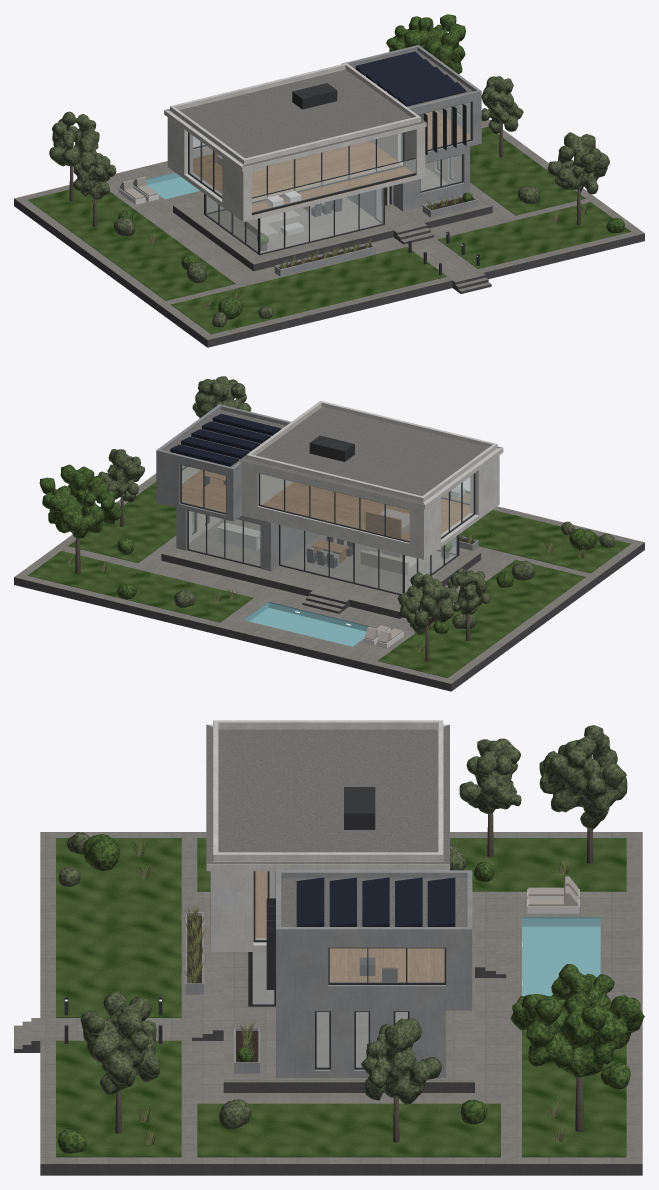
The model's file is smartestate_modern_villa.glb.
The picture shows the model from 3 angles, top to bottom: view 1: azimuth 30°, elevation 25°; view 2: azimuth 150°, elevation 25°; view 3: azimuth 270°, elevation 25°; orthographic projection. The views are drawn at different scales.
Parts seen in each view (by area): view 1: Site_Platform_Terraces_Pool, Villa_Structure_Concrete, Glass_Upper_Balcony_Wall, Glass_Pavilion_South, Roof_Solar_Array, Tree_RearEast_Canopy, Tree_FrontEast_Canopy, Balcony_Railing_Glass, Tree_RearWest_Canopy, Interior_Furniture, Tree_East_Canopy, Tree_WestGarden_Canopy (+14 smaller); view 2: Site_Platform_Terraces_Pool, Villa_Structure_Concrete, Glass_Pavilion_North, Glass_Upper_North_Ribbon, Interior_Furniture, Tree_RearEast_Canopy, Roof_Solar_Array, Glass_Ground_Garden_Sliding, Pool_Water_Surface, Tree_RearWest_Canopy, Glass_Upper2_North_Window, Tree_FrontEast_Canopy (+11 smaller); view 3: Site_Platform_Terraces_Pool, Villa_Structure_Concrete, Tree_RearEast_Canopy, Roof_Solar_Array, Tree_RearWest_Canopy, Tree_FrontEast_Canopy, Pool_Water_Surface, Tree_East_Canopy, Glass_Upper2_East_Ribbon, Tree_WestGarden_Canopy, Vegetation_Ornamental_Grasses, Exterior_Pool_Loungers (+12 smaller).
Boxes of the visible parts, left/top/right/bottom form: Site_Platform_Terraces_Pool: left=14, top=105, right=644, bottom=347; Villa_Structure_Concrete: left=164, top=45, right=481, bottom=222; Glass_Upper_Balcony_Wall: left=252, top=133, right=402, bottom=201; Glass_Pavilion_South: left=260, top=188, right=383, bottom=253; Roof_Solar_Array: left=355, top=51, right=466, bottom=106; Tree_RearEast_Canopy: left=386, top=14, right=465, bottom=73; Tree_FrontEast_Canopy: left=547, top=132, right=609, bottom=194; Balcony_Railing_Glass: left=252, top=159, right=415, bottom=212; Tree_RearWest_Canopy: left=49, top=111, right=99, bottom=169; Interior_Furniture: left=214, top=114, right=423, bottom=240; Tree_East_Canopy: left=481, top=76, right=523, bottom=133; Tree_WestGarden_Canopy: left=72, top=151, right=116, bottom=199; Site_Platform_Terraces_Pool: left=14, top=465, right=644, bottom=691; Villa_Structure_Concrete: left=156, top=400, right=503, bottom=571; Glass_Pavilion_North: left=280, top=525, right=402, bottom=593; Glass_Upper_North_Ribbon: left=260, top=474, right=409, bottom=540; Interior_Furniture: left=204, top=471, right=464, bottom=575; Tree_RearEast_Canopy: left=39, top=464, right=121, bottom=538; Roof_Solar_Array: left=170, top=413, right=280, bottom=466; Glass_Ground_Garden_Sliding: left=189, top=511, right=260, bottom=566; Pool_Water_Surface: left=245, top=603, right=367, bottom=646; Tree_RearWest_Canopy: left=397, top=572, right=453, bottom=634; Glass_Upper2_North_Window: left=182, top=465, right=225, bottom=512; Tree_FrontEast_Canopy: left=192, top=376, right=251, bottom=418; Site_Platform_Terraces_Pool: left=14, top=832, right=642, bottom=1175; Villa_Structure_Concrete: left=206, top=720, right=472, bottom=1077; Tree_RearEast_Canopy: left=510, top=964, right=644, bottom=1077; Roof_Solar_Array: left=296, top=877, right=455, bottom=926; Tree_RearWest_Canopy: left=539, top=725, right=627, bottom=829; Tree_FrontEast_Canopy: left=80, top=991, right=159, bottom=1094; Pool_Water_Surface: left=522, top=919, right=600, bottom=996; Tree_East_Canopy: left=361, top=1018, right=442, bottom=1104; Glass_Upper2_East_Ribbon: left=330, top=948, right=444, bottom=982; Tree_WestGarden_Canopy: left=459, top=738, right=521, bottom=813; Vegetation_Ornamental_Grasses: left=129, top=838, right=573, bottom=1144; Exterior_Pool_Loungers: left=527, top=876, right=579, bottom=913.
Bounding box in the file's own units: 30 × 8.55 × 24.1.
25 materials, 11 textured.
